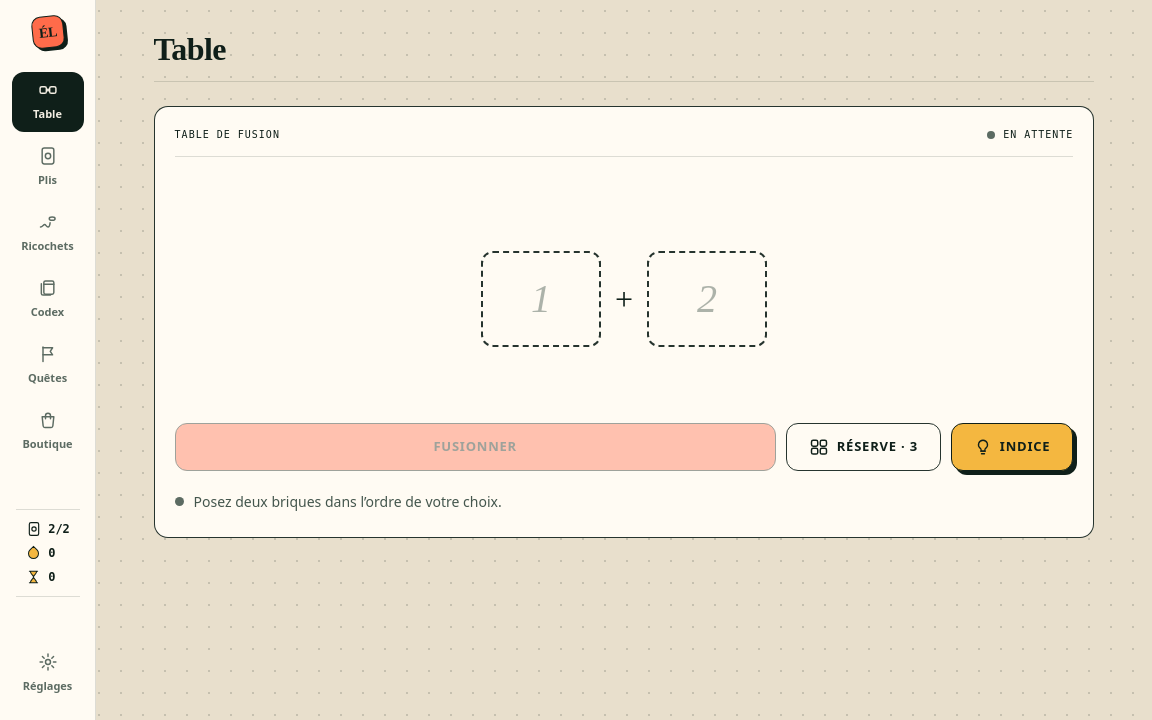
Test case: table de fusion › affiche la réserve de départ, sa recherche et ses filtres
Step 1. Click the button "Réserve · 3" → (863, 447), box [786, 423, 941, 471]
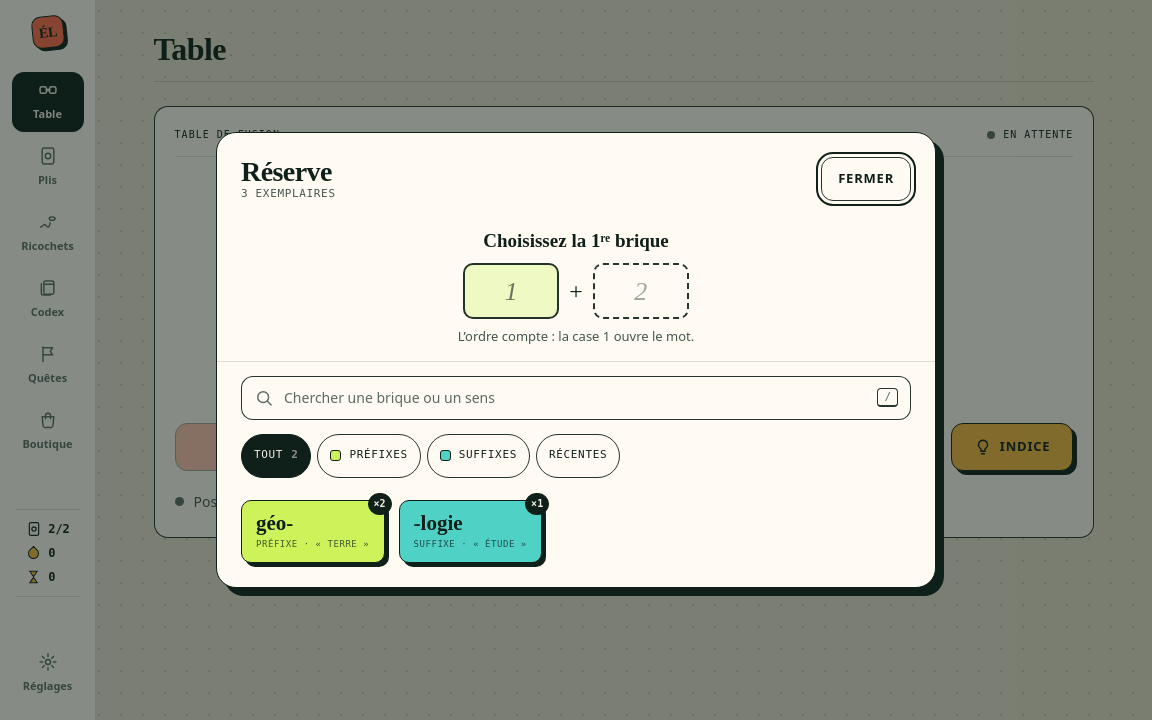
Now the button with aria-label "Poser géo- (terre) sur la table. 2 exemplaires disponibles" is shown, box [241, 500, 385, 563]
Step 2. Type "etude" into the search field named "Chercher une brique ou un sens" → (576, 398), box [282, 386, 869, 409]
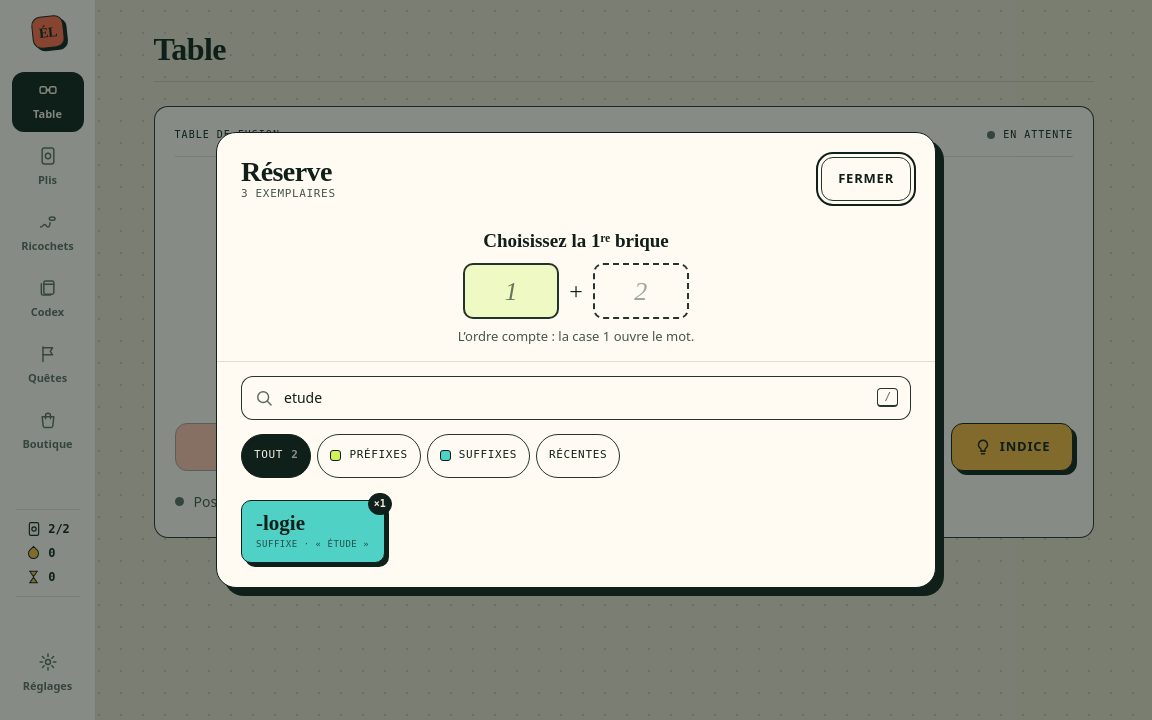
Now the text "-logie" is shown, box [256, 512, 305, 535]
Now the button "géo-" is gone
